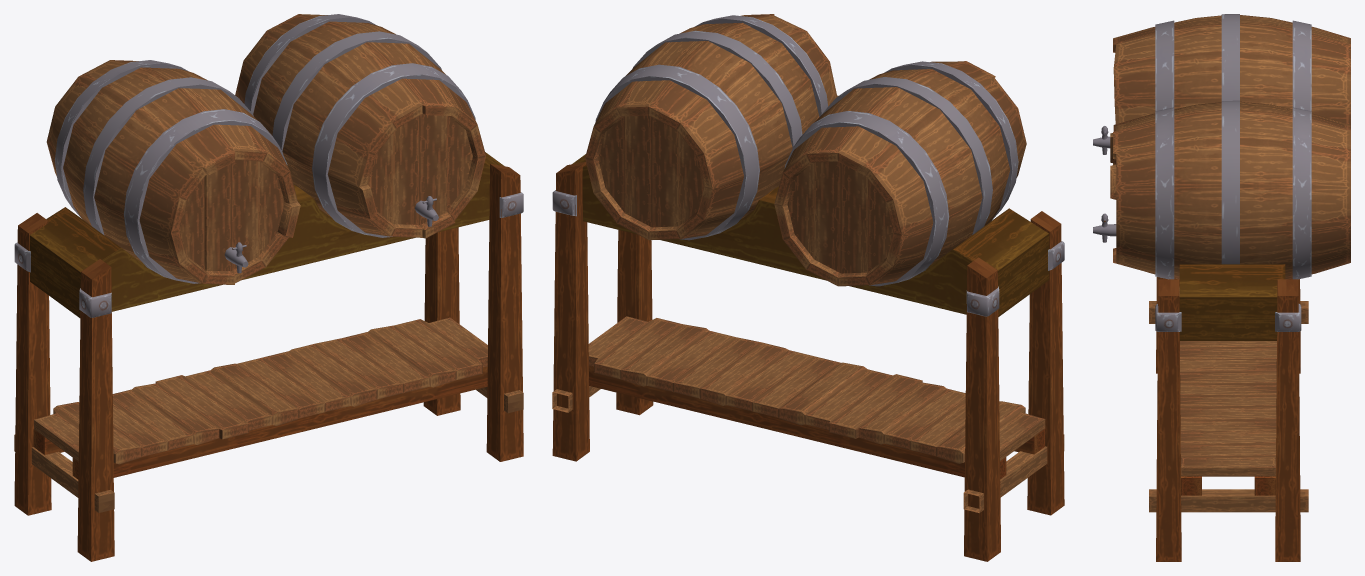
The model's file is Barrel_Holder.gltf.
3 views of the same model, side by side, from view 1: azimuth 30°, elevation 25°; view 2: azimuth 150°, elevation 25°; view 3: azimuth 270°, elevation 25° (orthographic). The views are drawn at different scales.
Visible parts, largest first — view 1: Barrel_Holder; view 2: Barrel_Holder; view 3: Barrel_Holder.
Part boxes in pixels (<box>): Barrel_Holder: <box>14,14,523,561</box>; Barrel_Holder: <box>552,14,1064,561</box>; Barrel_Holder: <box>1093,14,1350,561</box>.
Size of the model in its own units: 1.36 by 1.26 by 0.741.
Materials: 2 (2 with a texture image).
